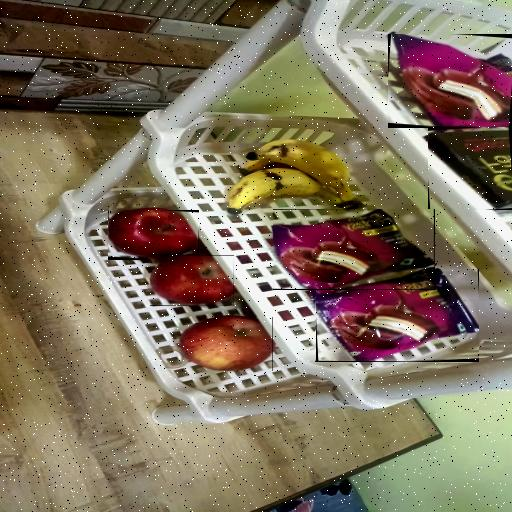Apple: (180, 317, 273, 371), (108, 210, 199, 260), (150, 255, 234, 306)
Choco Fills: (428, 127, 512, 210)
Choco Pie: (314, 269, 478, 362), (273, 209, 435, 289), (388, 34, 512, 128)
